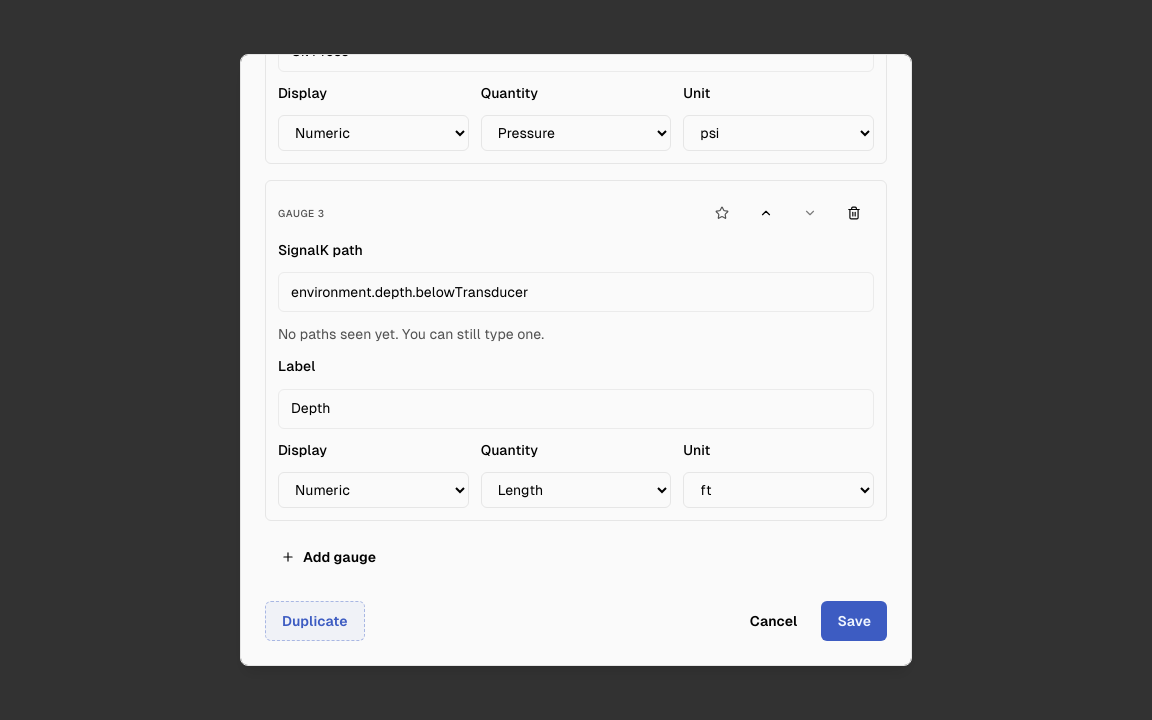
GaugeGroupConfigDialog › will not save a group with a blank path, which the backend rejects
The width and height of the screenshot is (1152, 720).
(page scrolled)
Expected: the button "Save" is enabled, [821,601,887,641]
Click the button "Add gauge" at [329, 557], box [265,537,392,577]
(page scrolled)
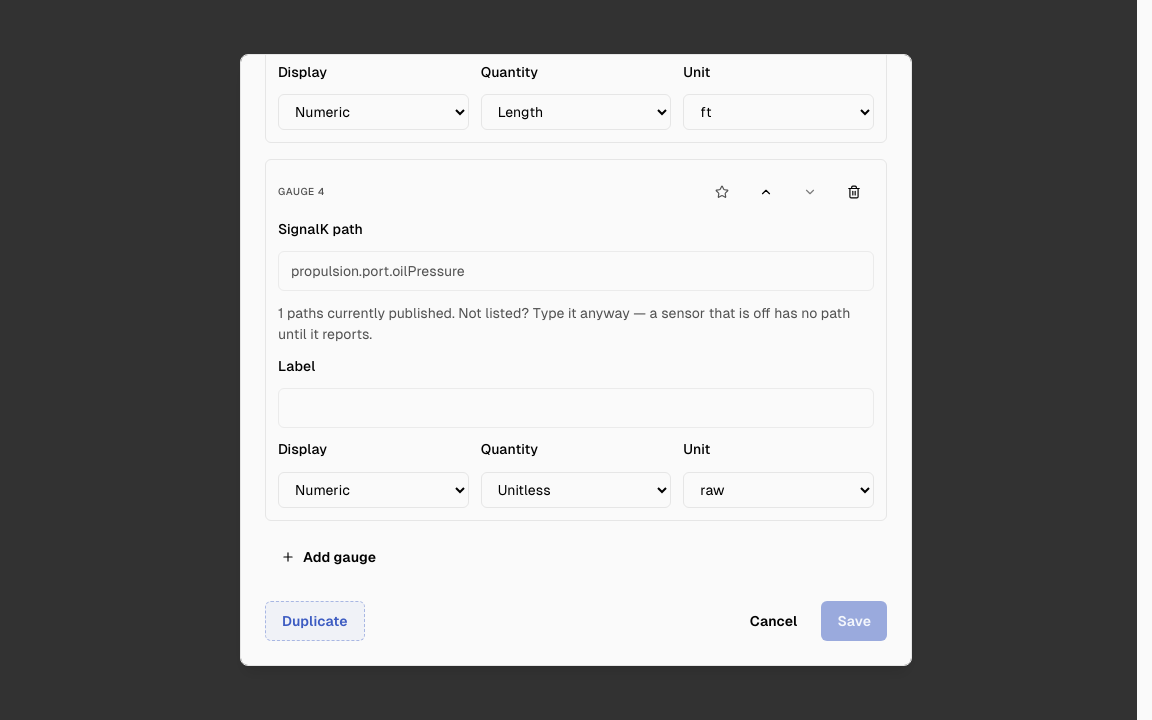
Now the button "Save" is disabled, box [821,600,887,640]
